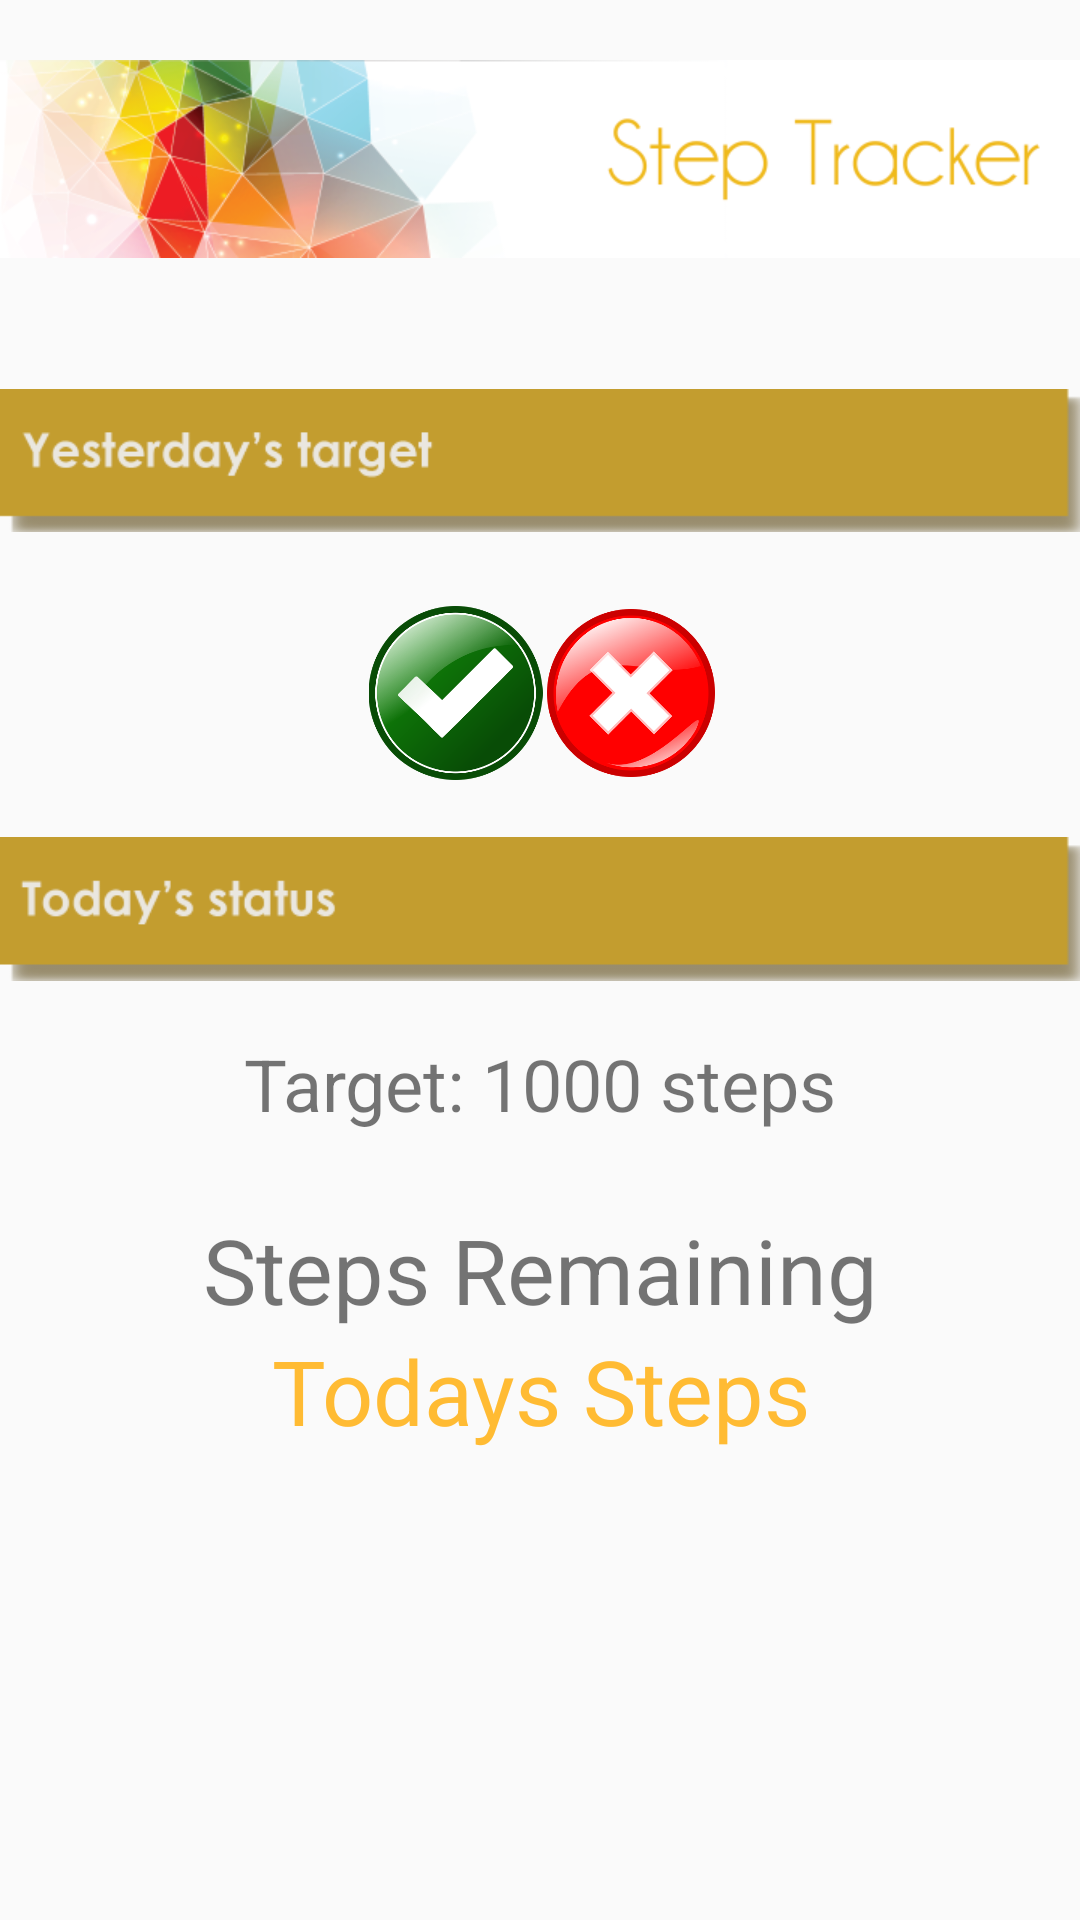

Screen size 1080w x 1920h. Icon name, then its center in pixels as [x,y]:
approved: [456,693]
cross: [631,693]
